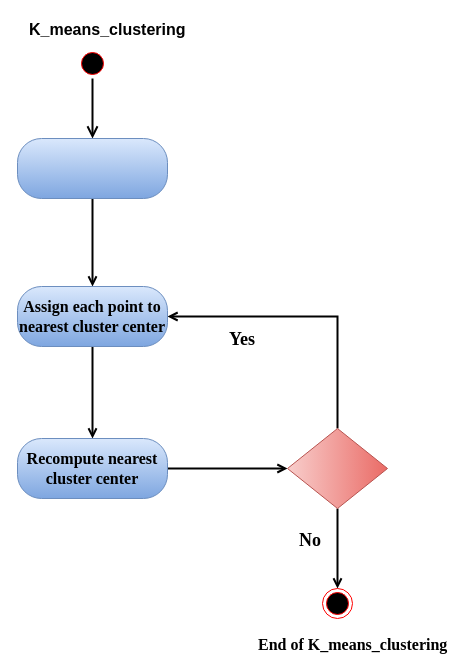
Image size: 474x671. Some labels were removed from this diagram. Each missing label, with the centre of its shape:
Cluster has changed ?: (337,468)
Selecting k random cluster: (92,168)
